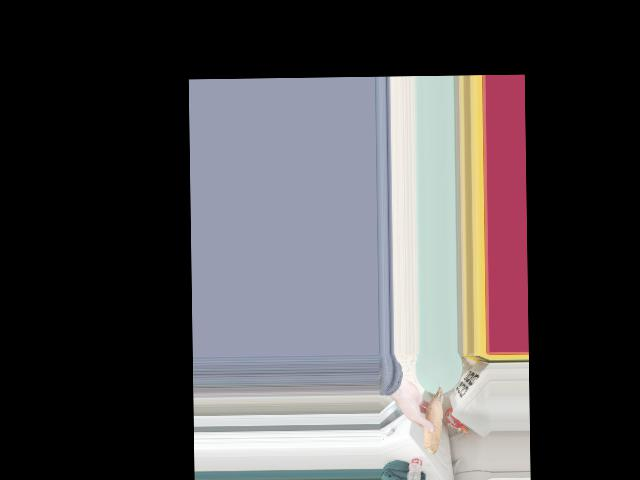sweet_potato: (426, 381, 445, 457)
